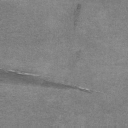finishing roll printing: (0, 69, 91, 93), (73, 3, 82, 30)
